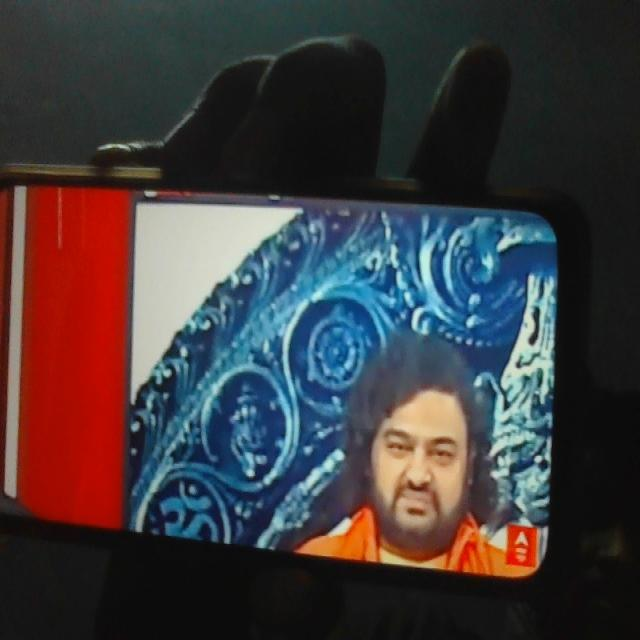fake: (359, 323, 485, 560)
